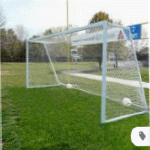goals: (24, 20, 150, 126)
